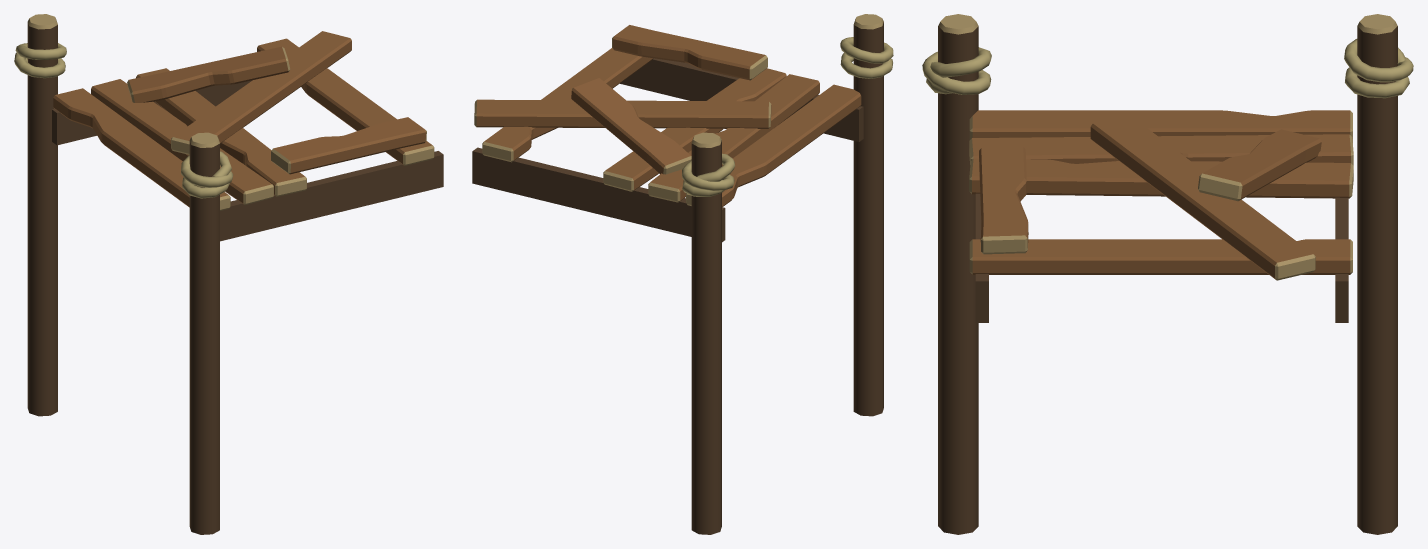
File: environment_dock_broken.glb
3 views of the same model, side by side, from view 1: azimuth 30°, elevation 25°; view 2: azimuth 150°, elevation 25°; view 3: azimuth 270°, elevation 25° (orthographic). The views are drawn at different scales.
Visible parts, largest first — view 1: Environment_Dock_Broken; view 2: Environment_Dock_Broken; view 3: Environment_Dock_Broken.
Part boxes in pixels (left/top/right/bottom): Environment_Dock_Broken: left=14, top=14, right=443, bottom=534; Environment_Dock_Broken: left=472, top=14, right=893, bottom=534; Environment_Dock_Broken: left=922, top=14, right=1413, bottom=534.
Size of the model in its own units: 2.38 by 3.01 by 2.66.
Materials: 1 (1 with a texture image).
